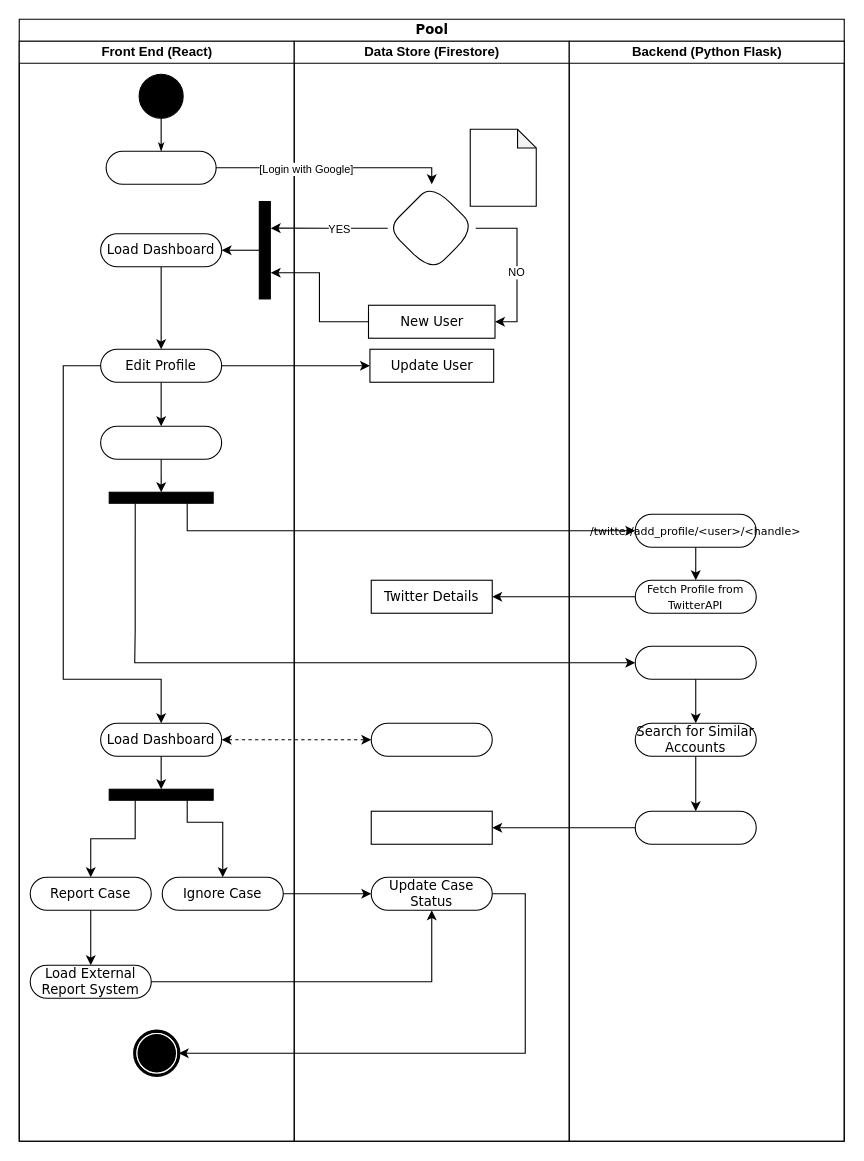
Image size: 864x1161. Some labels were removed from this diagram. Here are the shapes that lost their labels. From the top down, the centre of each, then its label:
At pixel 160 167: "User Login".
At pixel 502 167: "Data provided by Google Auth service".
At pixel 431 227: "Existing User".
At pixel 161 442: "Add Twitter".
At pixel 695 662: "/twitter/scan /<user>/<handle>".
At pixel 431 739: "Reactivity Fetch Cases".
At pixel 431 827: "Add Found Cases".
At pixel 695 827: "Compare Profile Details".
